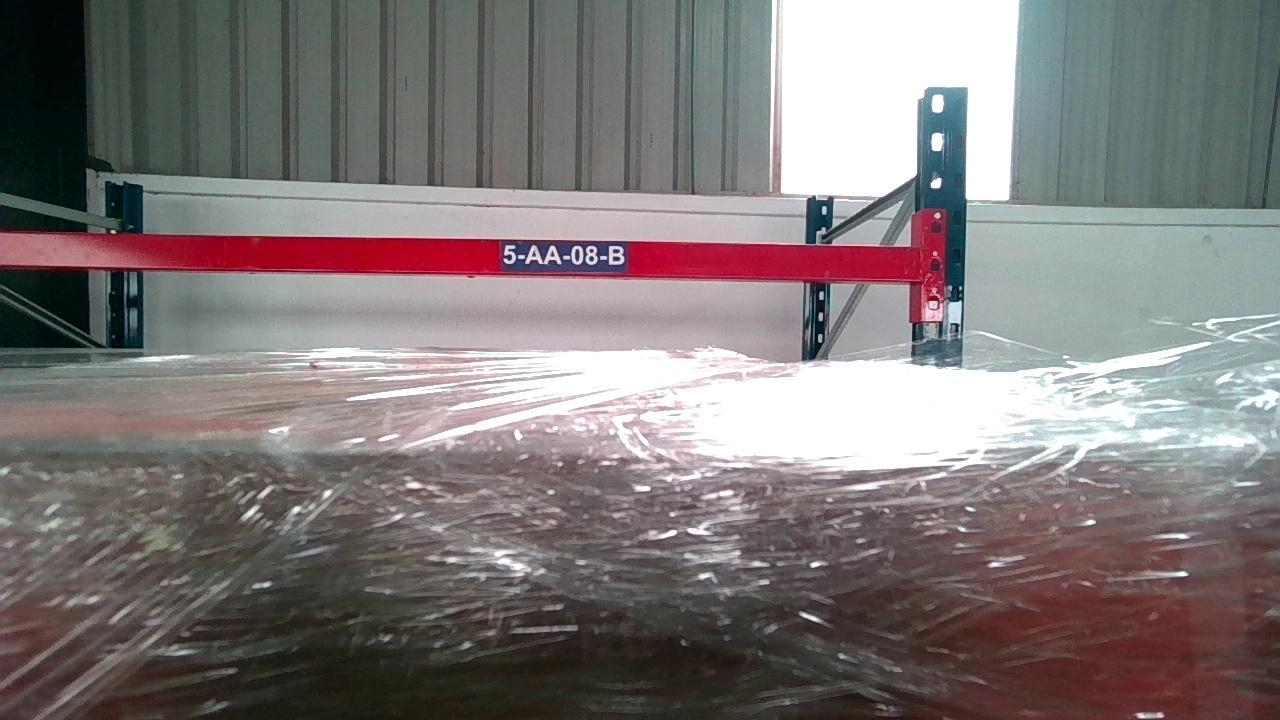h_rack: (0, 232, 922, 281)
